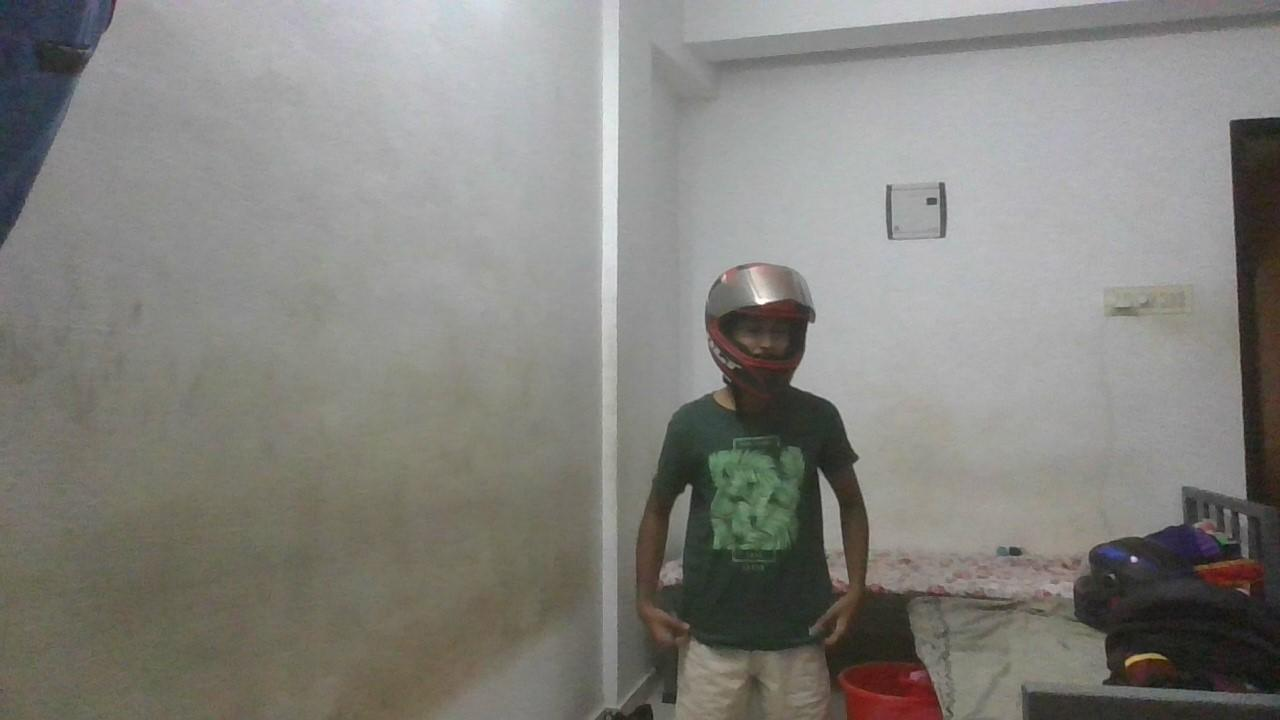helmet: (704, 261, 817, 402)
